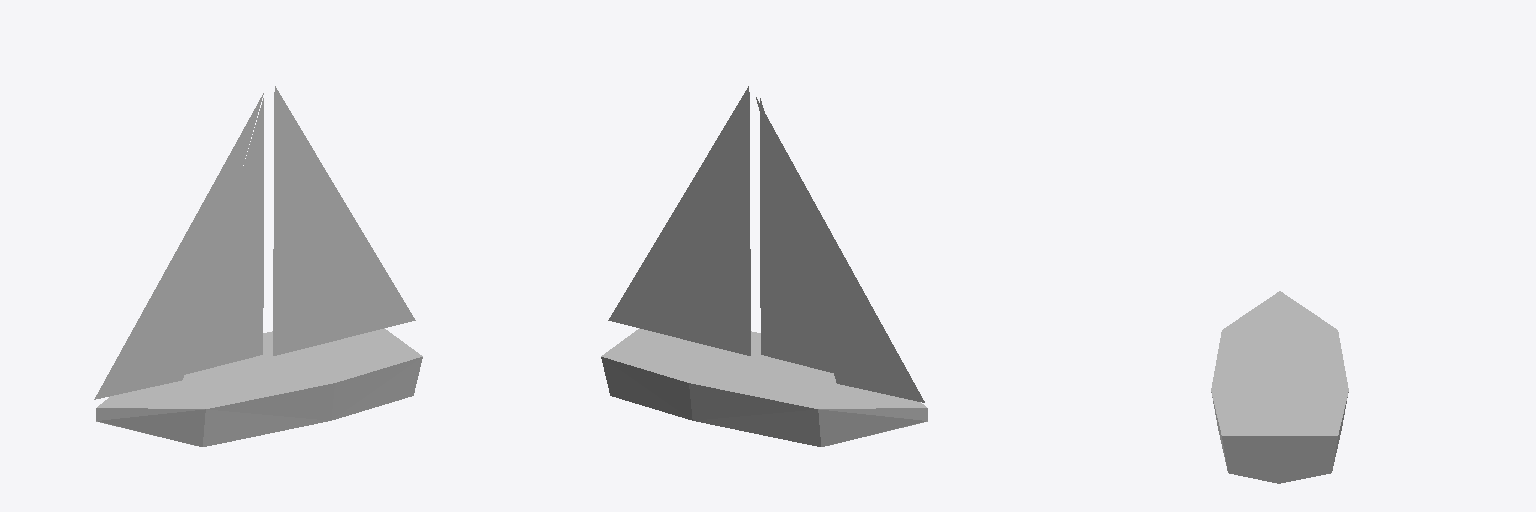
Rendered from boat.obj.
3 views of the same model, side by side, from view 1: azimuth 30°, elevation 25°; view 2: azimuth 150°, elevation 25°; view 3: azimuth 270°, elevation 25° (orthographic).
Bounding box in the file's own units: 6.66 × 6.63 × 2.49.